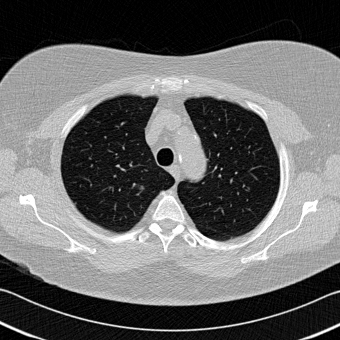nodule: (138, 185, 144, 191)
